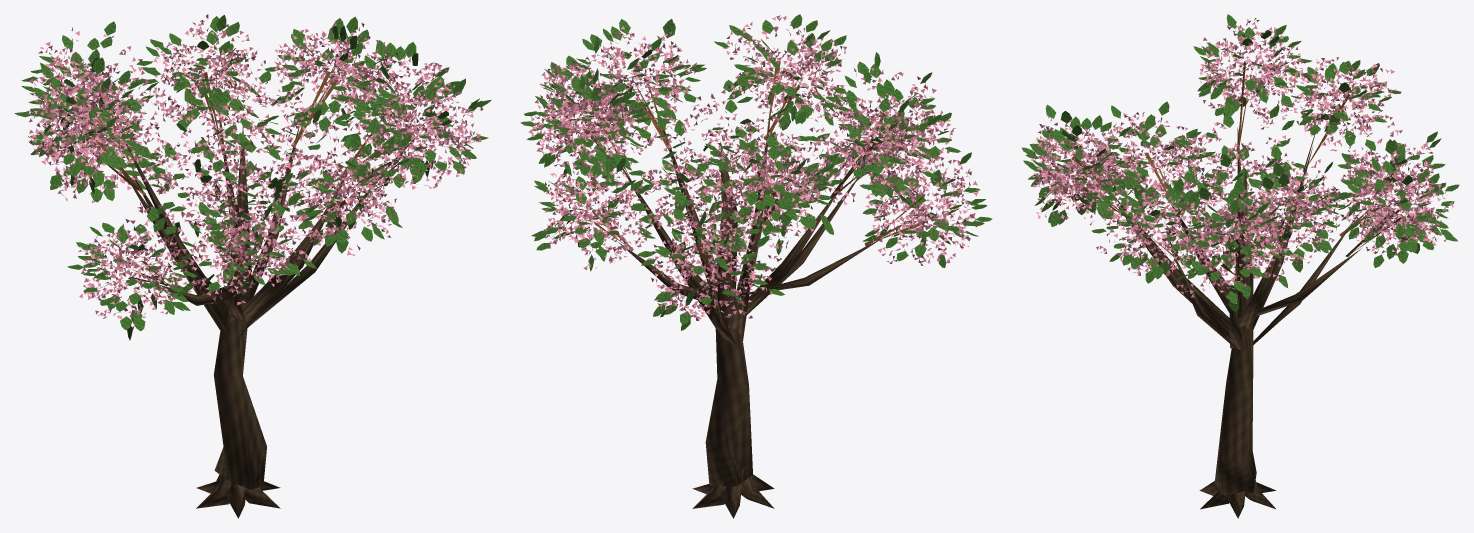
File: blossoming_tree.glb
The picture shows the model from 3 angles, left to right: view 1: azimuth 30°, elevation 25°; view 2: azimuth 150°, elevation 25°; view 3: azimuth 270°, elevation 25°; orthographic projection. The views are drawn at different scales.
Parts seen in each view (by area): view 1: blossoming_tree_Foliage.001, blossoming_tree_Branches.001; view 2: blossoming_tree_Foliage.001, blossoming_tree_Branches.001; view 3: blossoming_tree_Foliage.001, blossoming_tree_Branches.001.
Part boxes in pixels (bbox=[...]): blossoming_tree_Foliage.001: bbox=[14, 14, 491, 340]; blossoming_tree_Branches.001: bbox=[82, 69, 426, 518]; blossoming_tree_Foliage.001: bbox=[520, 14, 992, 330]; blossoming_tree_Branches.001: bbox=[583, 61, 924, 518]; blossoming_tree_Foliage.001: bbox=[1021, 14, 1459, 311]; blossoming_tree_Branches.001: bbox=[1072, 62, 1401, 518].
Size of the model in its own units: 5.59 by 5.84 by 5.56.
Materials: 2 (2 with a texture image).
